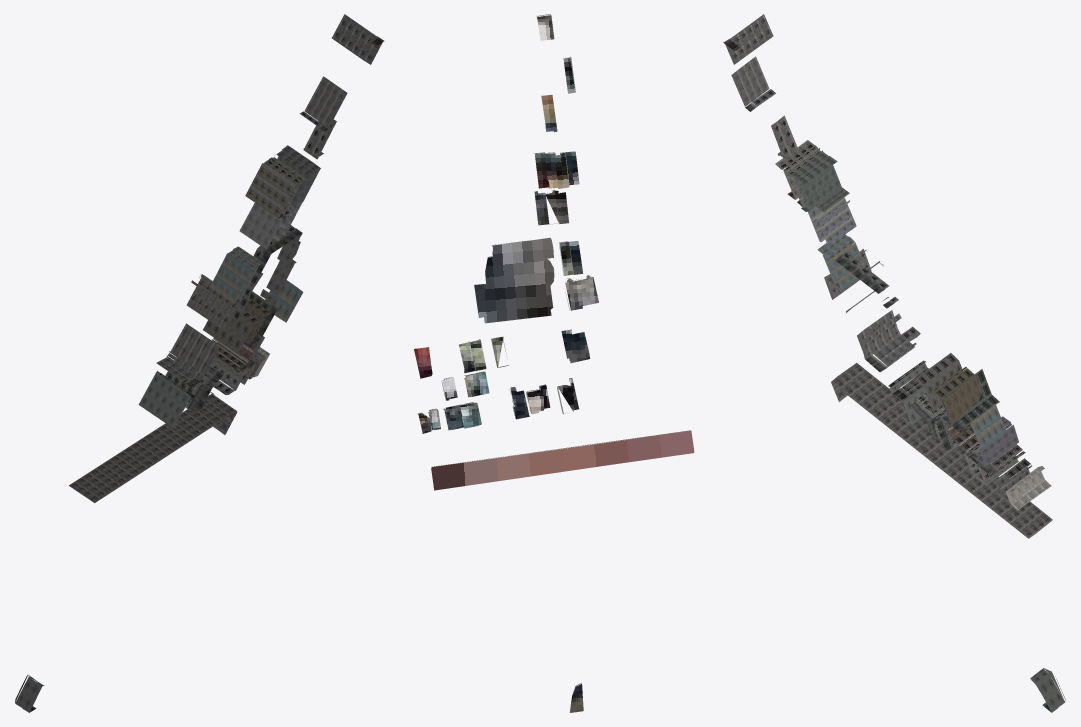
The model's file is tile_LOD3_r2_c3.glb.
3 renders of one model, left to right at view 1: azimuth 30°, elevation 25°; view 2: azimuth 150°, elevation 25°; view 3: azimuth 270°, elevation 25°, orthographic. The views are drawn at different scales.
Bounding box in the file's own units: 133 × 316 × 126.
Materials: 124 (124 with a texture image).
